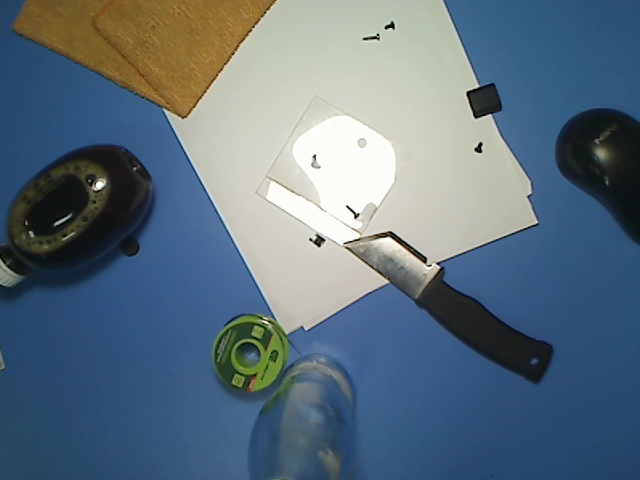plast_bottle: (1, 139, 155, 295)
